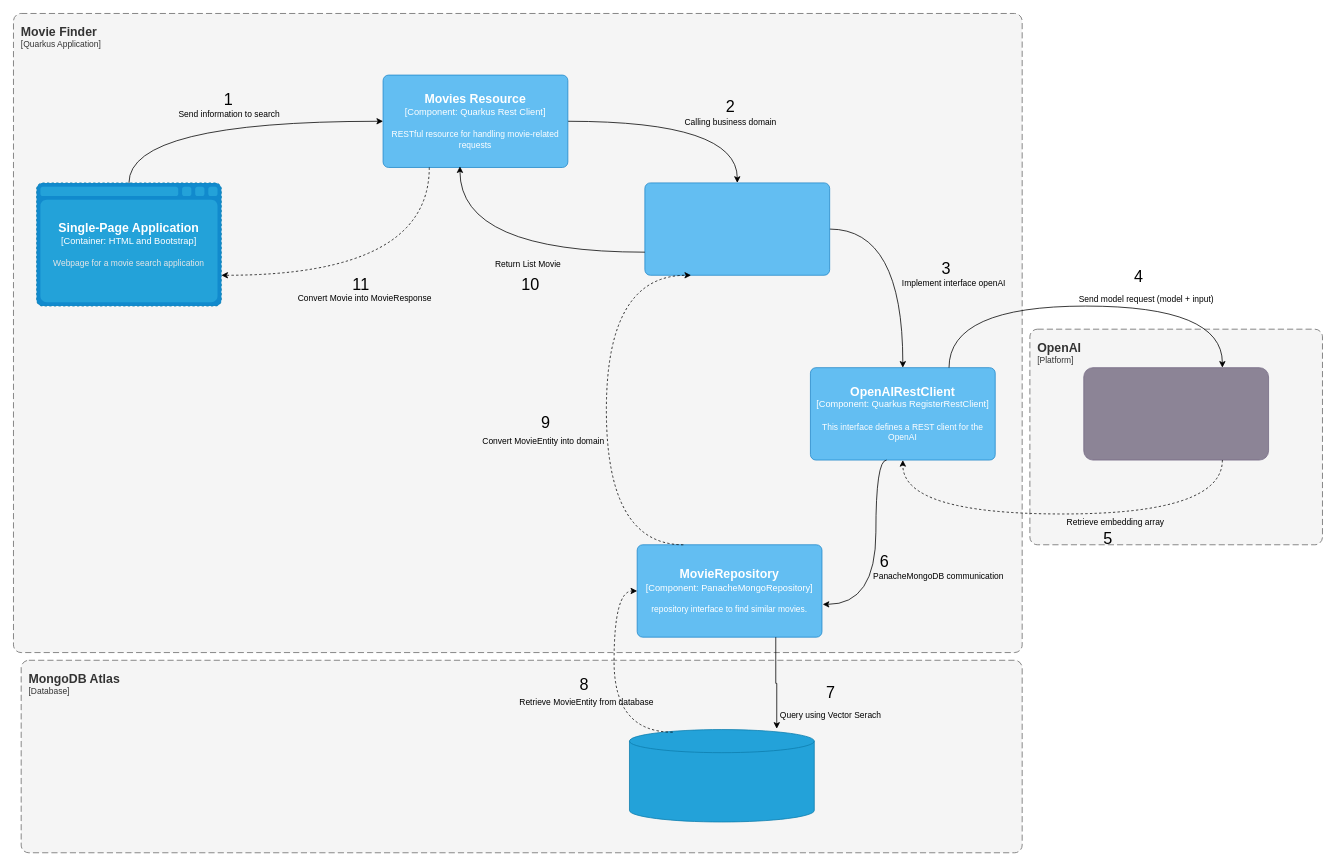
The diagram is 1336 pixels wide and 866 high, and some of its shapes have lost their labels. Here are the shapes that lost their labels. From the top down, the centre of each, then its label:
At [737,228]: "Movie Service [Component: Domain Service] Just know the context of domain".
At [1176,413]: "API OpenAI [Software System] OpenAI RegisterRestClient".
At [721,775]: "Database [Container: MongoDB Atlas] Storage movies in sample_flix database".
